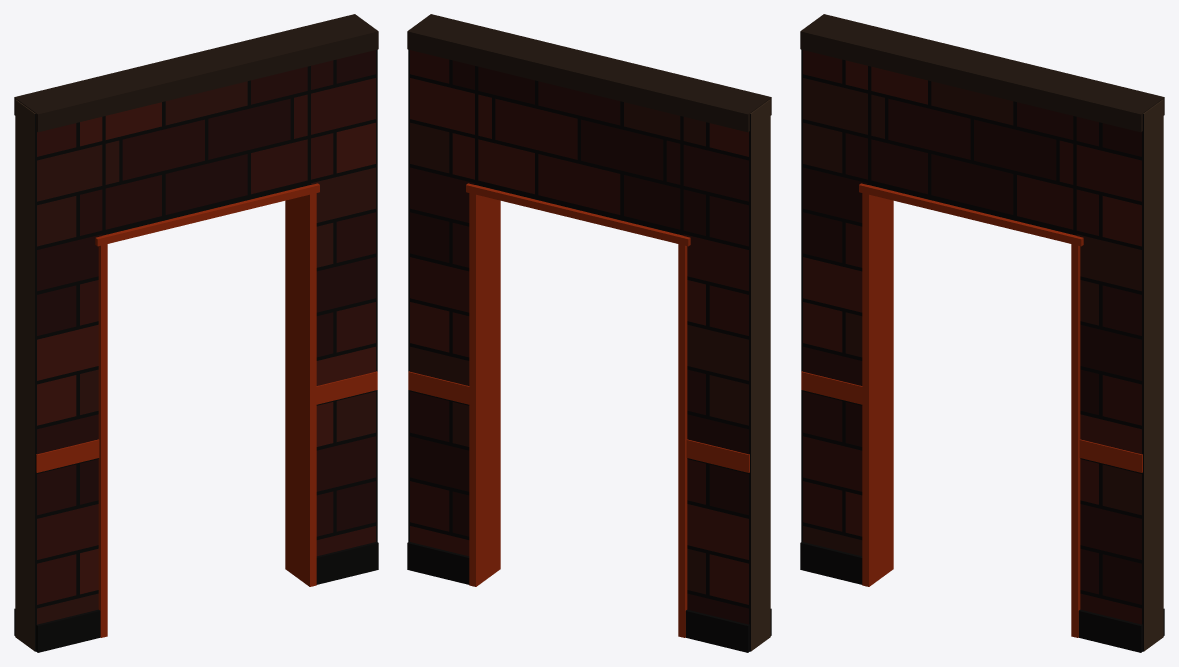
The model's file is SM_Wall_Door_2x3_Hideout.glb.
3 renders of one model, left to right at view 1: azimuth 30°, elevation 25°; view 2: azimuth 150°, elevation 25°; view 3: azimuth 330°, elevation 25°, orthographic.
Visible parts, largest first — view 1: SM_Wall_Door_2x3_Hideout-col; view 2: SM_Wall_Door_2x3_Hideout-col; view 3: SM_Wall_Door_2x3_Hideout-col.
Boxes of the visible parts, box(x1,y1,x2,y2) form: SM_Wall_Door_2x3_Hideout-col: box(14, 14, 378, 652); SM_Wall_Door_2x3_Hideout-col: box(407, 14, 771, 652); SM_Wall_Door_2x3_Hideout-col: box(800, 14, 1164, 652).
Bounding box in the file's own units: 2 × 3 × 0.25.
